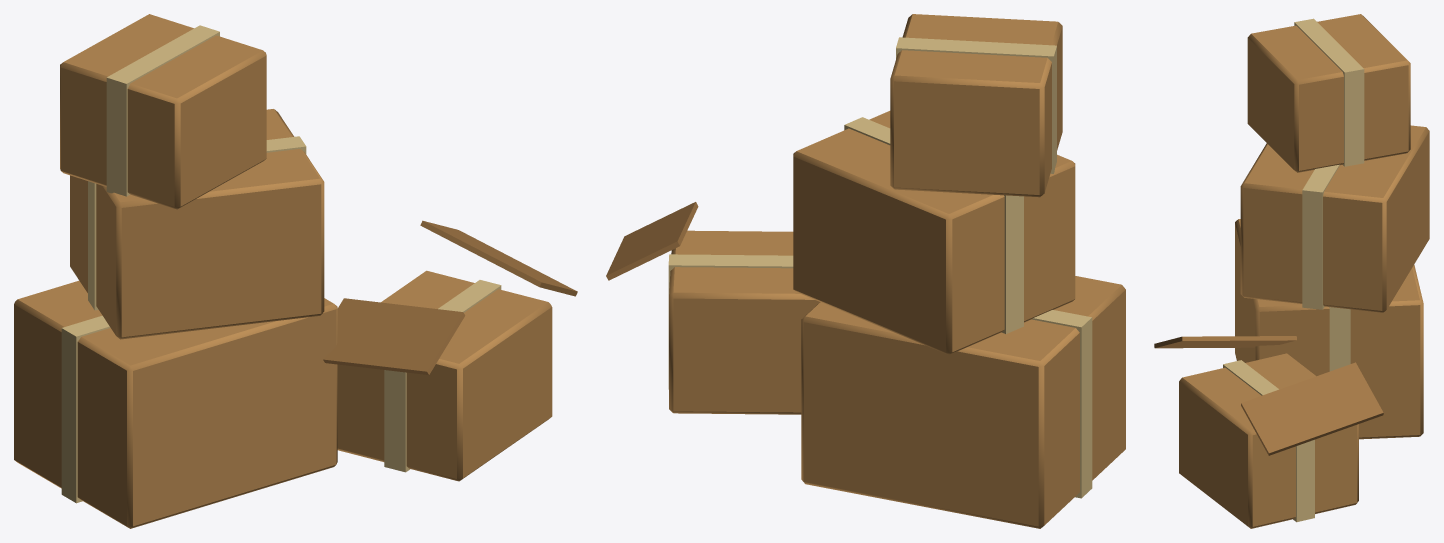
The model's file is boxes_block.glb.
The picture shows the model from 3 angles, left to right: view 1: azimuth 30°, elevation 25°; view 2: azimuth 150°, elevation 25°; view 3: azimuth 270°, elevation 25°; orthographic projection. The views are drawn at different scales.
Visible parts, largest first — view 1: boxes; view 2: boxes; view 3: boxes.
Part boxes in pixels (x1,y1,x2,y2): boxes: (14,14,577,528); boxes: (606,14,1125,528); boxes: (1154,14,1429,528).
Bounding box in the file's own units: 1.56 × 1.27 × 0.9142.
